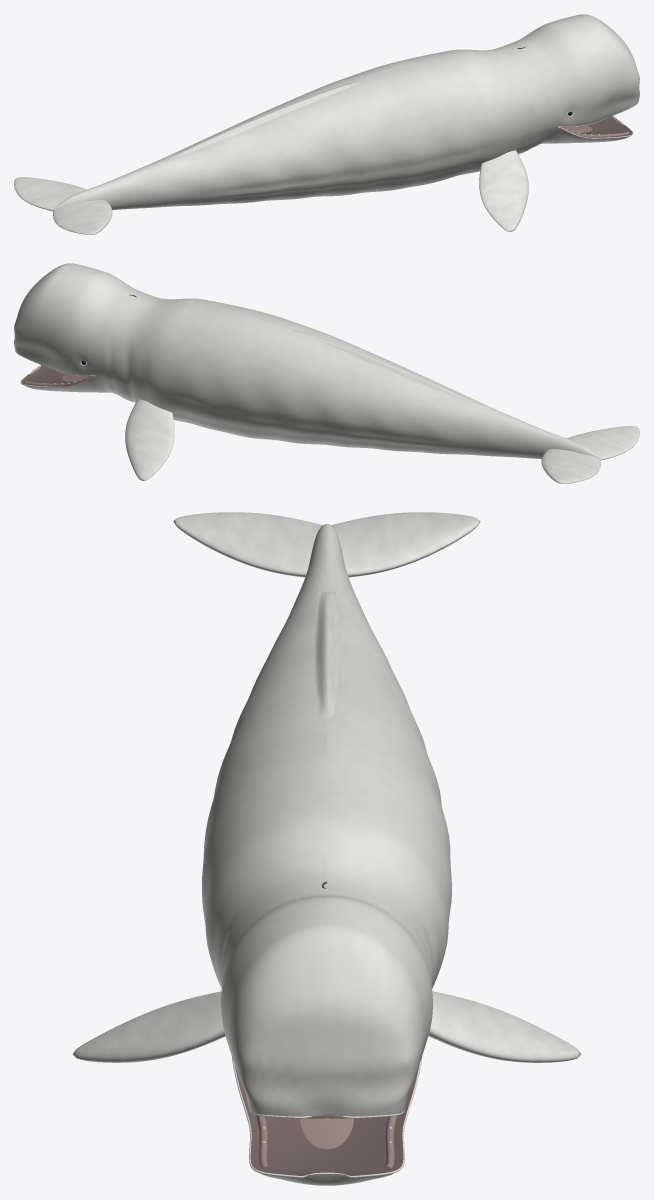
The model's file is beluga-open-mouth-v0658.glb.
The picture shows the model from 3 angles, top to bottom: view 1: azimuth 30°, elevation 25°; view 2: azimuth 150°, elevation 25°; view 3: azimuth 270°, elevation 25°; orthographic projection. The views are drawn at different scales.
Parts seen in each view (by area): view 1: Resculpted CC0 beluga adult exterior, Broad rounded pectoral flipper 1, Horizontal low-aspect-ratio fluke 1, Horizontal low-aspect-ratio fluke -1, Low tough dorsal ridge without a dorsal fin, Lower oral floor; view 2: Resculpted CC0 beluga adult exterior, Broad rounded pectoral flipper -1, Horizontal low-aspect-ratio fluke -1, Horizontal low-aspect-ratio fluke 1, Low tough dorsal ridge without a dorsal fin, Lower oral floor; view 3: Resculpted CC0 beluga adult exterior, Lower oral floor, Horizontal low-aspect-ratio fluke -1, Horizontal low-aspect-ratio fluke 1, Broad rounded pectoral flipper 1, Broad rounded pectoral flipper -1, Low tough dorsal ridge without a dorsal fin, Broad mobile tongue surface.
Part boxes in pixels (left/top/right/bottom): Resculpted CC0 beluga adult exterior: left=53, top=14, right=639, bottom=210; Broad rounded pectoral flipper 1: left=479, top=150, right=528, bottom=231; Horizontal low-aspect-ratio fluke 1: left=53, top=200, right=112, bottom=234; Horizontal low-aspect-ratio fluke -1: left=14, top=177, right=86, bottom=211; Low tough dorsal ridge without a dorsal fin: left=165, top=80, right=362, bottom=161; Lower oral floor: left=560, top=116, right=632, bottom=137; Resculpted CC0 beluga adult exterior: left=14, top=263, right=600, bottom=459; Broad rounded pectoral flipper -1: left=125, top=399, right=174, bottom=480; Horizontal low-aspect-ratio fluke -1: left=541, top=449, right=600, bottom=483; Horizontal low-aspect-ratio fluke 1: left=567, top=426, right=639, bottom=460; Low tough dorsal ridge without a dorsal fin: left=291, top=329, right=488, bottom=410; Lower oral floor: left=21, top=365, right=94, bottom=386; Resculpted CC0 beluga adult exterior: left=202, top=524, right=451, bottom=1185; Lower oral floor: left=234, top=1064, right=419, bottom=1176; Horizontal low-aspect-ratio fluke -1: left=331, top=512, right=480, bottom=577; Horizontal low-aspect-ratio fluke 1: left=173, top=512, right=322, bottom=577; Broad rounded pectoral flipper 1: left=72, top=991, right=225, bottom=1062; Broad rounded pectoral flipper -1: left=428, top=991, right=581, bottom=1062; Low tough dorsal ridge without a dorsal fin: left=313, top=591, right=340, bottom=718; Broad mobile tongue surface: left=300, top=1118, right=353, bottom=1149.
Size of the model in its own units: 3.95 by 0.8638 by 1.49.
44 materials, 2 textured.
